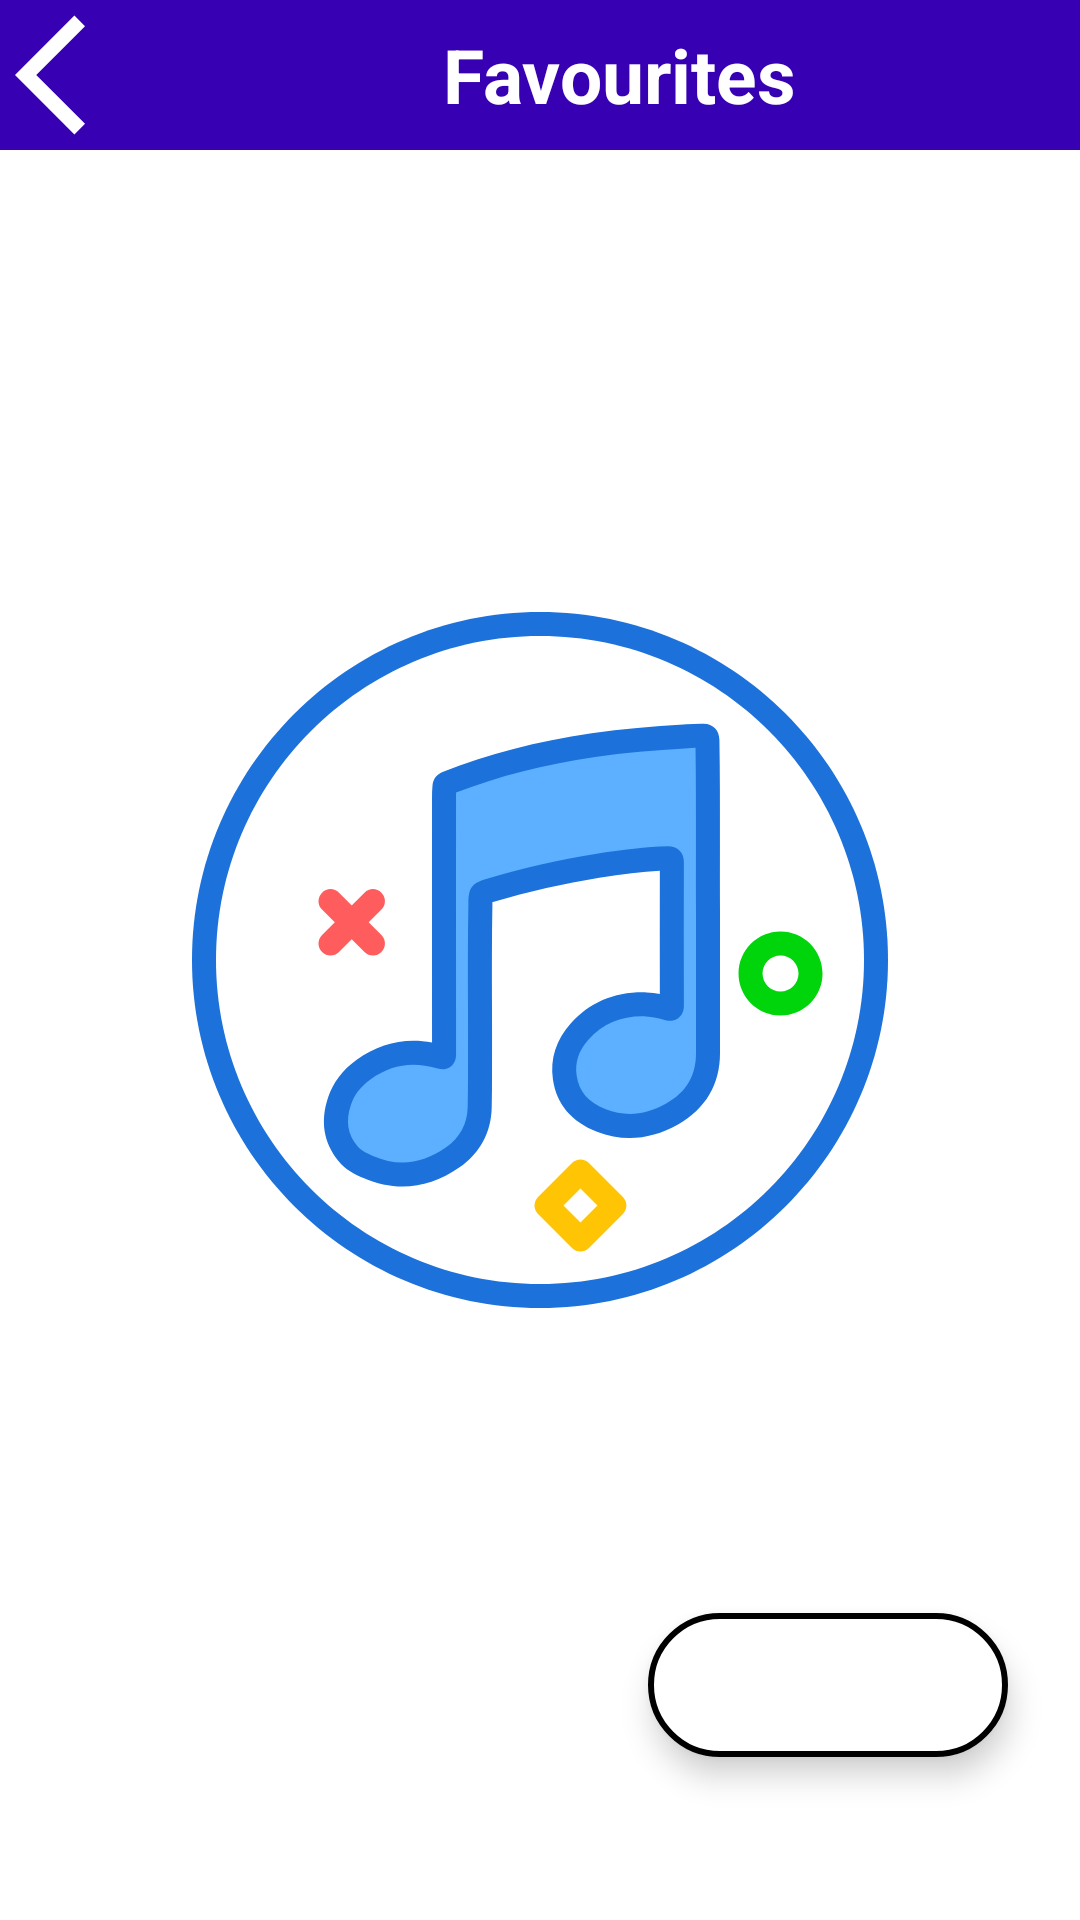

Where icons sit on this 1080x1920 app screen, as (x1, y1, x2, y2):
Back: (15, 15, 85, 135)
